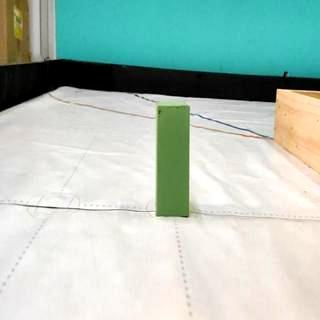greenbox: (154, 102, 194, 216)
